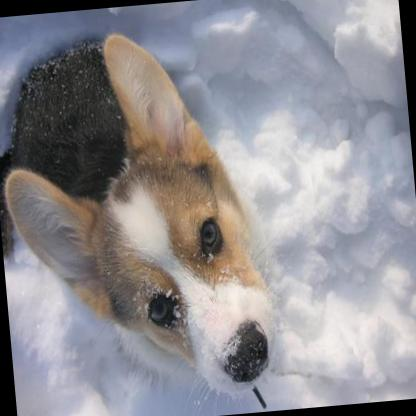Pembroke: (0, 18, 281, 412)
